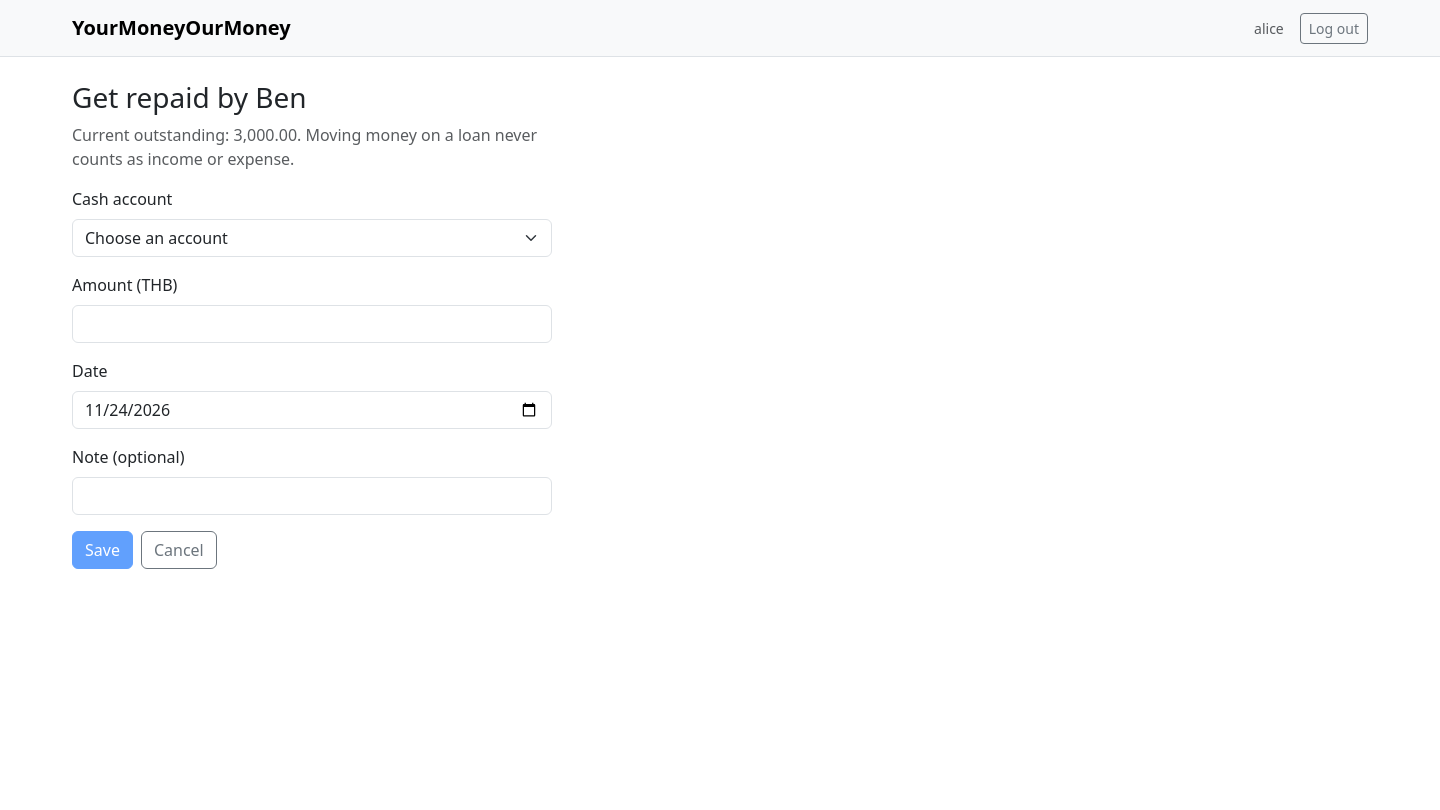
Scenario: LoanActionPage (T-DEBT-UI-02) › T-DEBT-UI-02: Get repaid exceeding outstanding warns before sending and submits only after confirmation
The image size is (1440, 810).
expect the heading "Get repaid by Ben" is shown: met, box [72, 78, 306, 116]
Select "Bank · 38,500.00" in the dropdown labelled "Cash account" at x=312, y=238, box [72, 219, 552, 257]
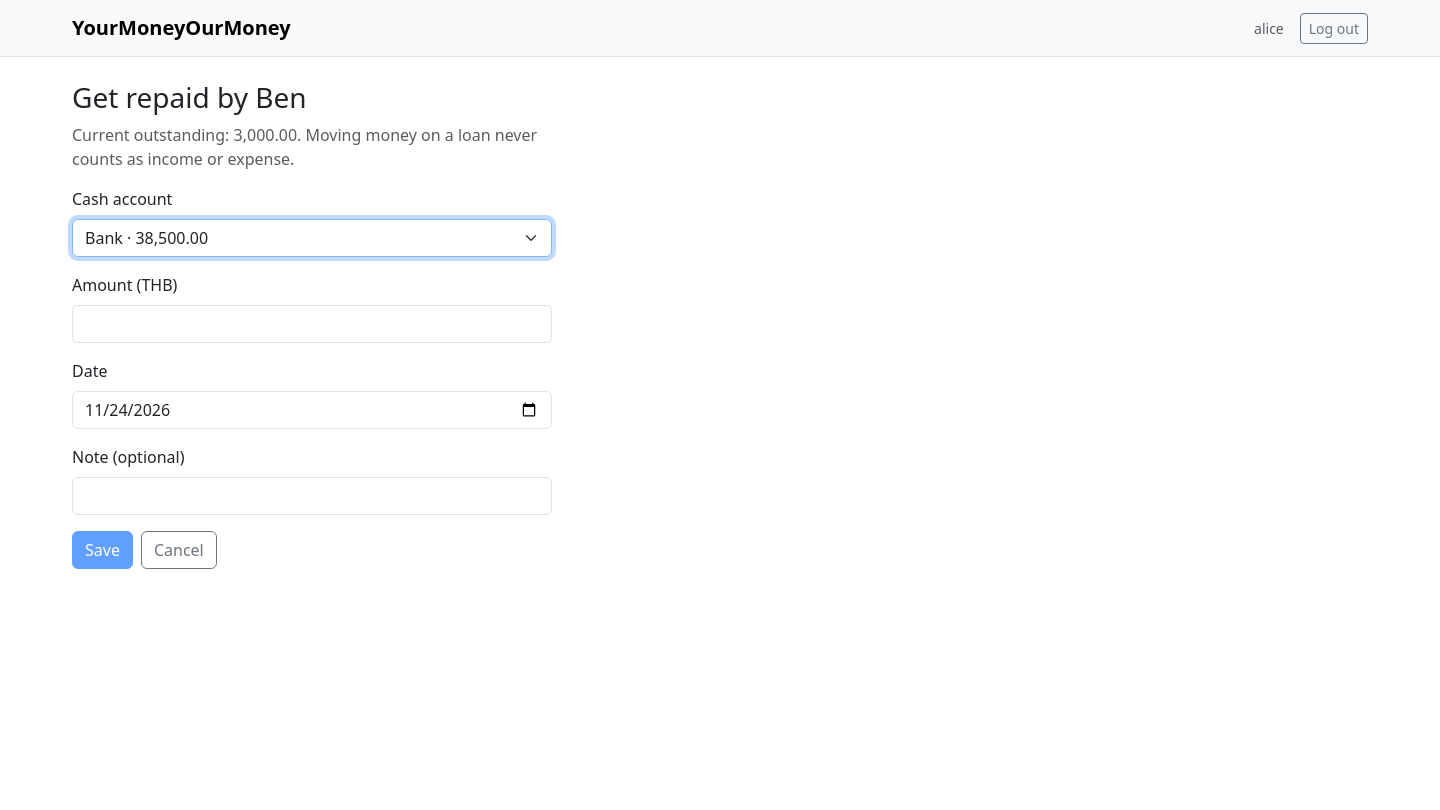
Type "3,500.00" into the field labelled "Amount (THB)" at x=312, y=324, box [72, 305, 552, 343]
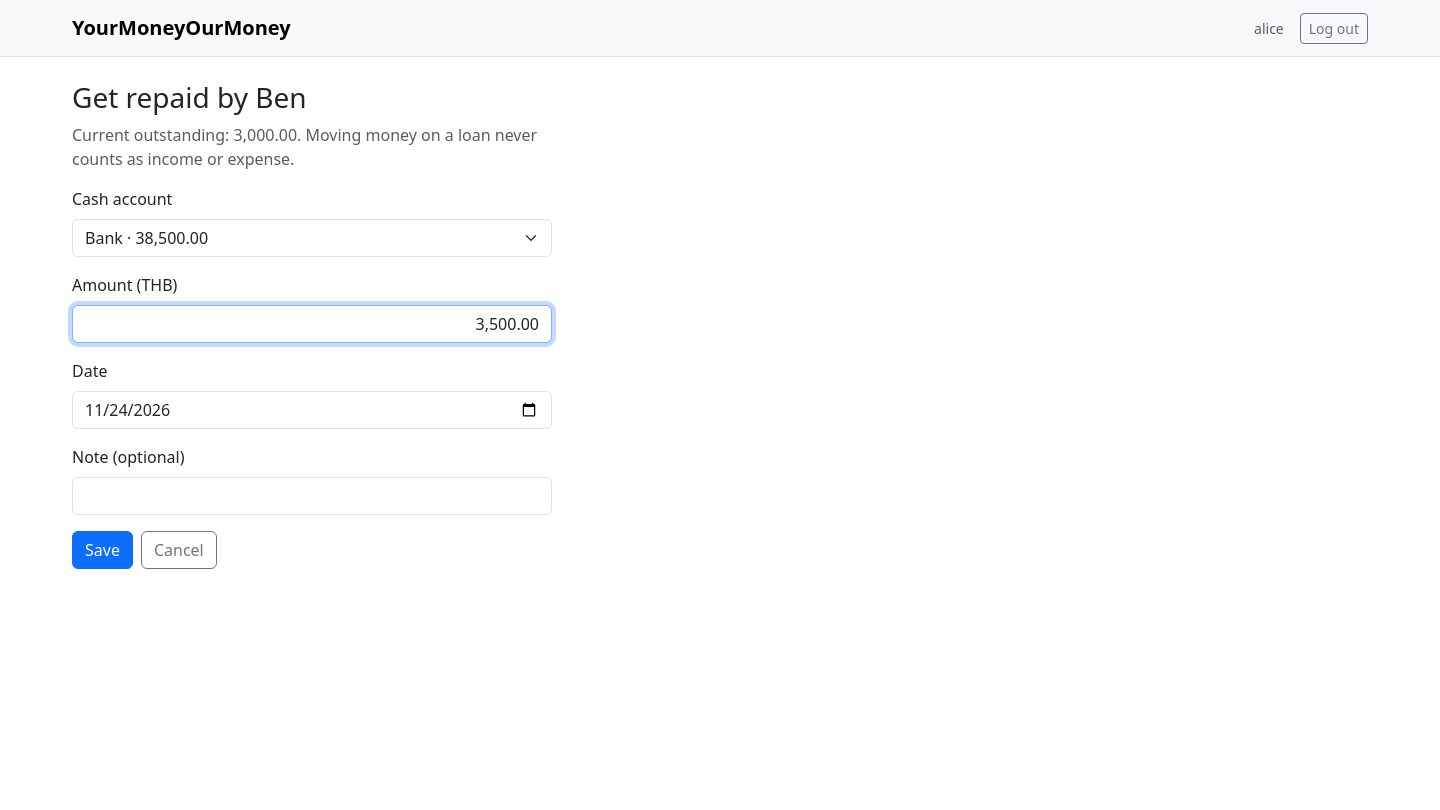
Type "2026-11-22" into the date field labelled "Date" at x=312, y=410, box [72, 391, 552, 429]
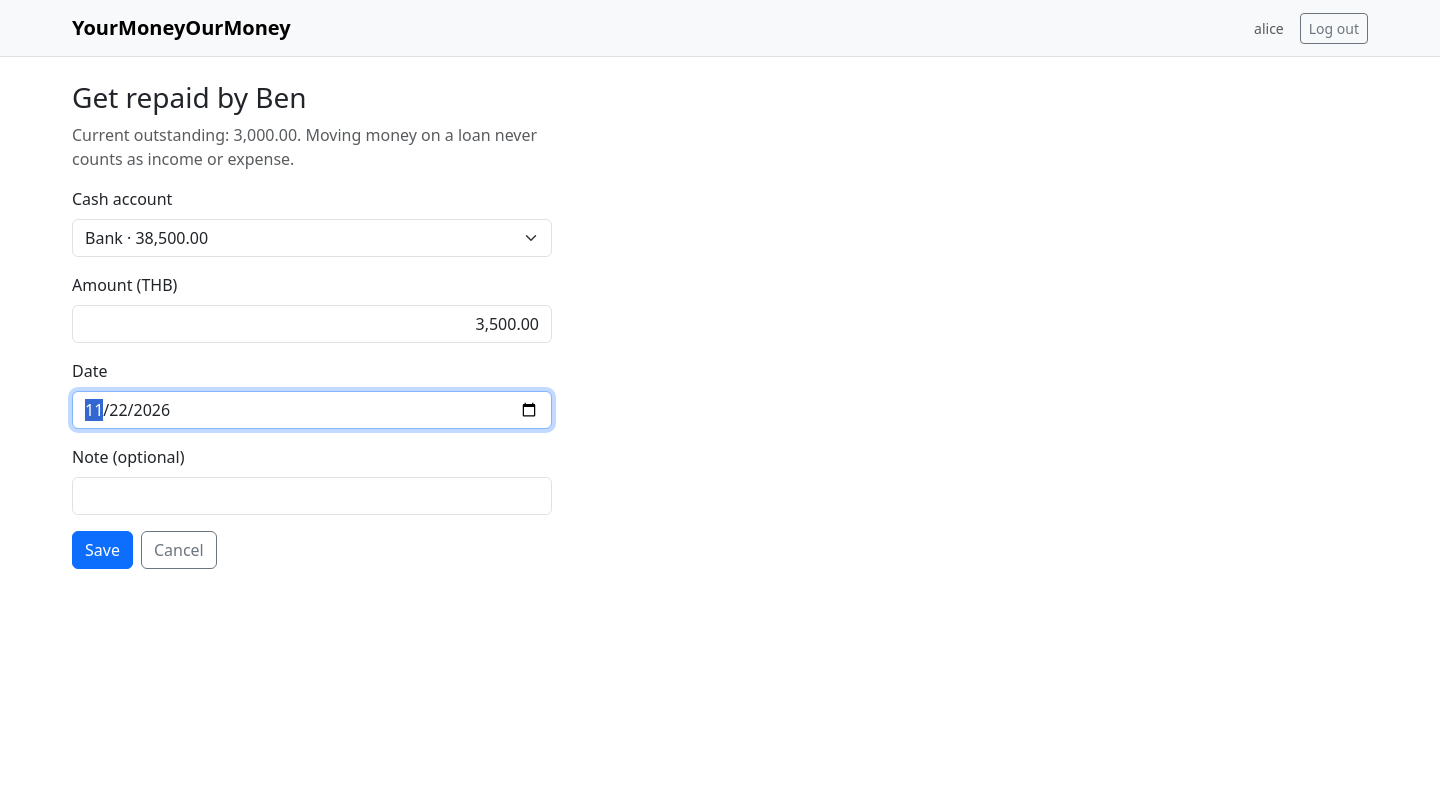
Type "Extra" into the field labelled "Note (optional)" at x=312, y=496, box [72, 477, 552, 515]
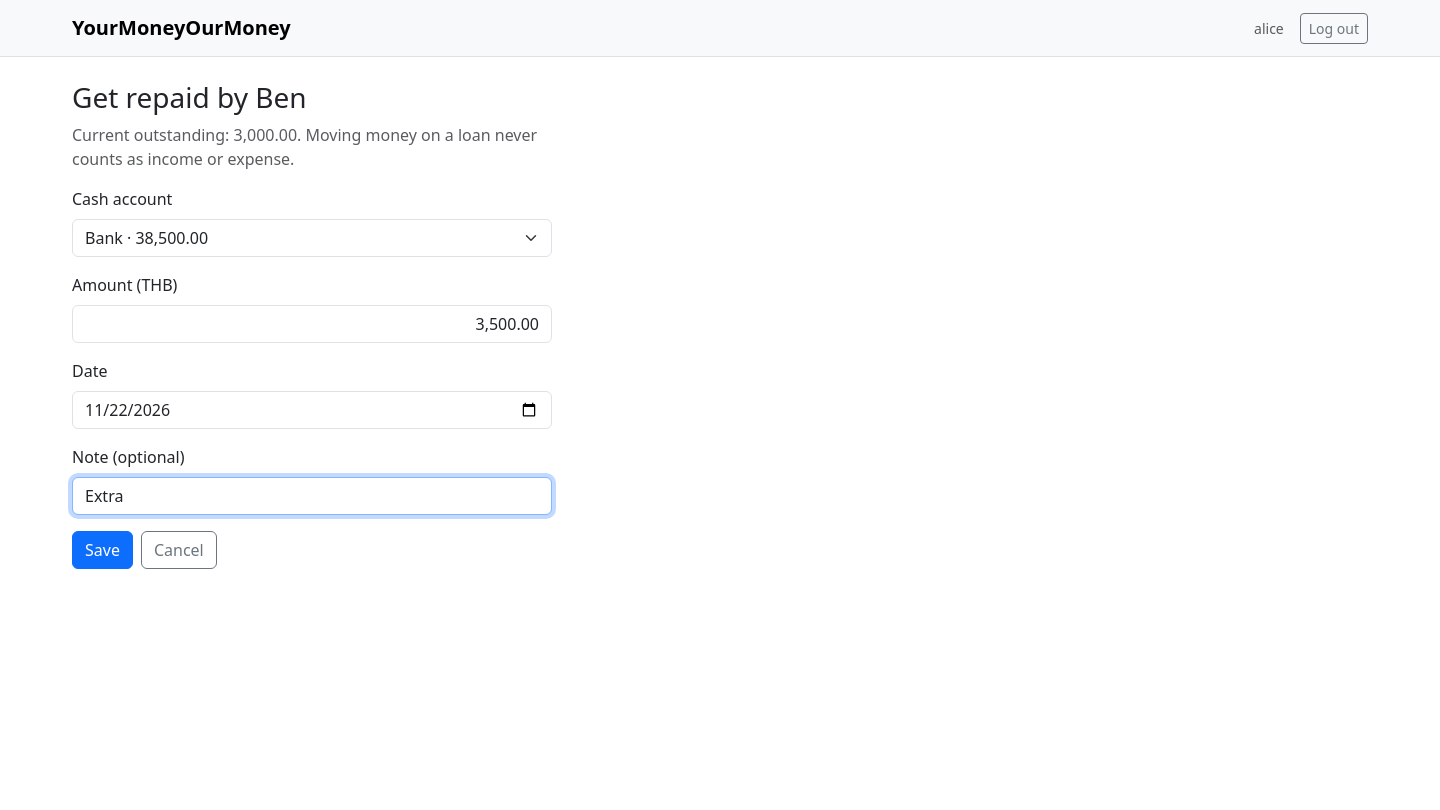
Click the button "Save" at x=102, y=550, box [72, 531, 133, 569]
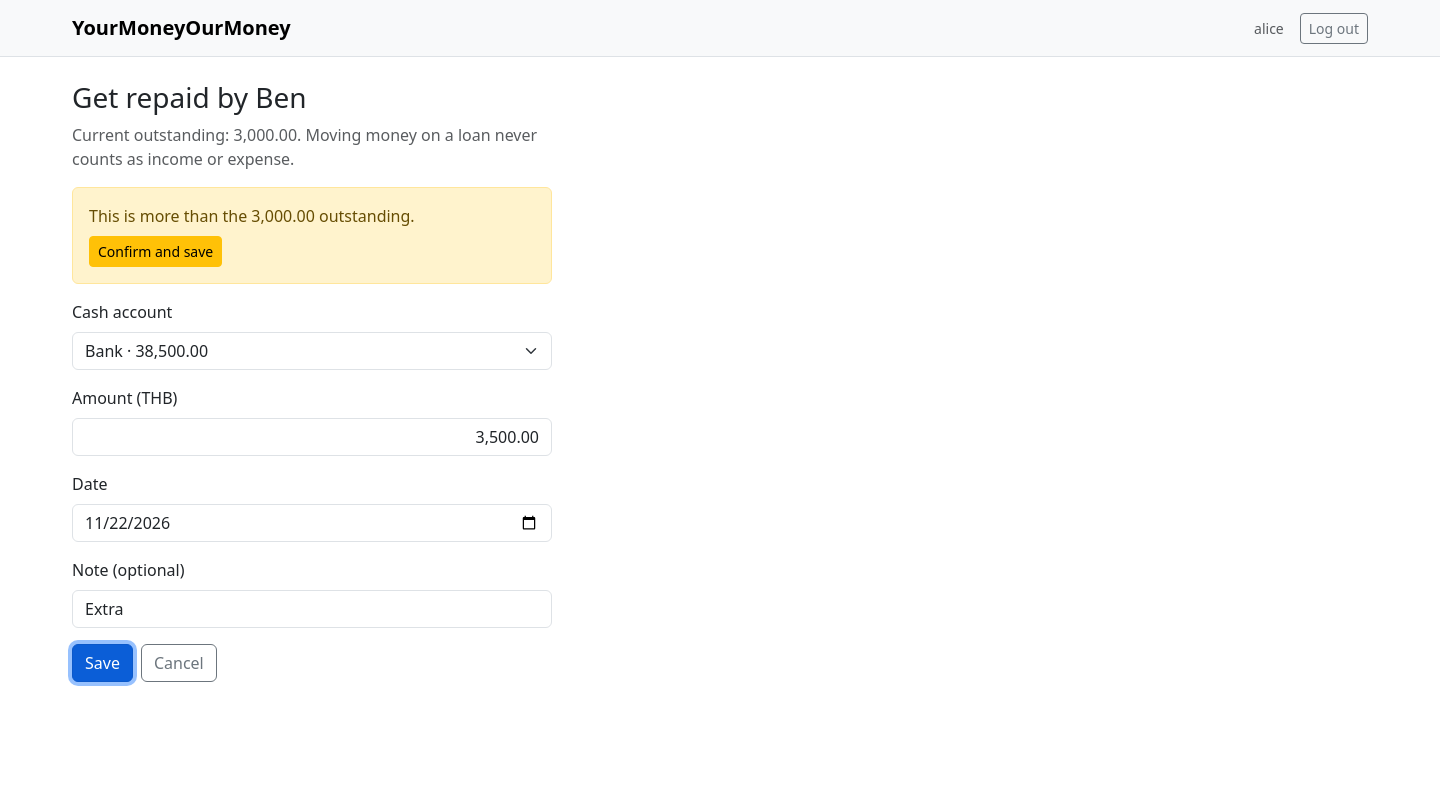
expect the message shows "This is more than the 3,000.00 outstanding.": met, box [72, 187, 552, 284]
Explicit confirmation sends the transaction and returns to /loans
Click the button "Confirm and save" at x=156, y=251, box [89, 236, 222, 267]
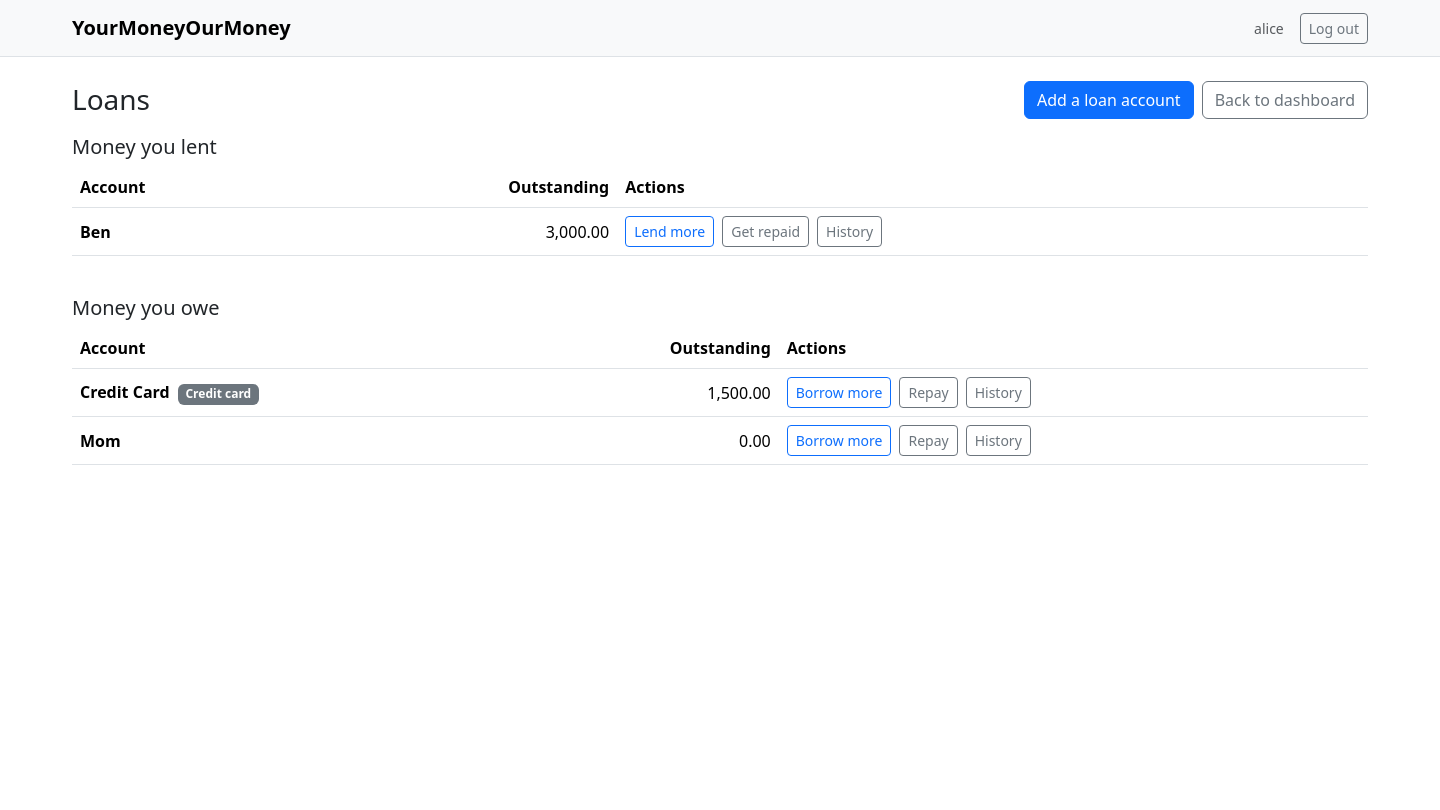
expect the heading "Loans" is shown: met, box [72, 83, 150, 117]
